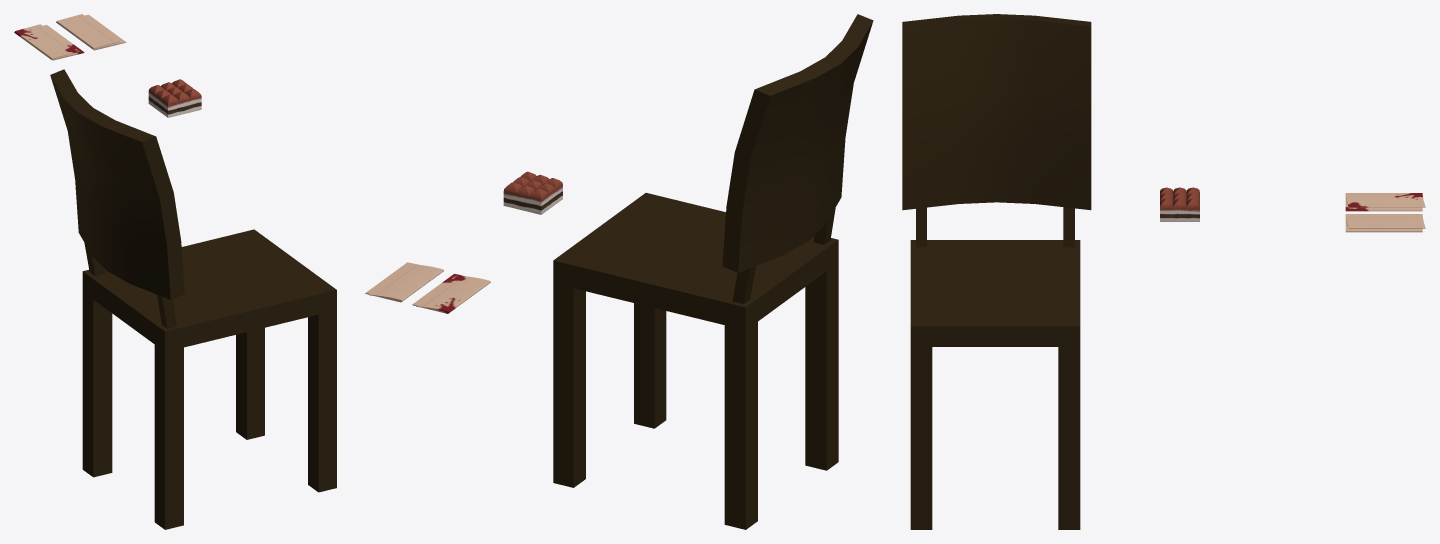
Rendered from Chair+Tiramisu+Napkin.fbx.
3 renders of one model, left to right at view 1: azimuth 30°, elevation 25°; view 2: azimuth 150°, elevation 25°; view 3: azimuth 270°, elevation 25°, orthographic. The views are drawn at different scales.
Visible parts, largest first — view 1: pCube9, pCube10, pCube11, pCube12; view 2: pCube9, pCube10, pCube11, pCube12; view 3: pCube9, pCube11, pCube12, pCube10.
Boxes of the visible parts, x1=… form: pCube9: x1=50, y1=69, x2=336, y2=529; pCube10: x1=148, y1=79, x2=201, y2=117; pCube11: x1=56, y1=14, x2=126, y2=50; pCube12: x1=14, y1=24, x2=84, y2=60; pCube9: x1=553, y1=14, x2=873, y2=529; pCube10: x1=503, y1=171, x2=562, y2=214; pCube11: x1=365, y1=262, x2=443, y2=302; pCube12: x1=412, y1=273, x2=490, y2=313; pCube9: x1=902, y1=14, x2=1091, y2=529; pCube11: x1=1345, y1=214, x2=1425, y2=232; pCube12: x1=1345, y1=193, x2=1425, y2=211; pCube10: x1=1160, y1=187, x2=1199, y2=221.
Size of the model in its own units: 1509 by 2656 by 3067.
1 material, 1 textured.
